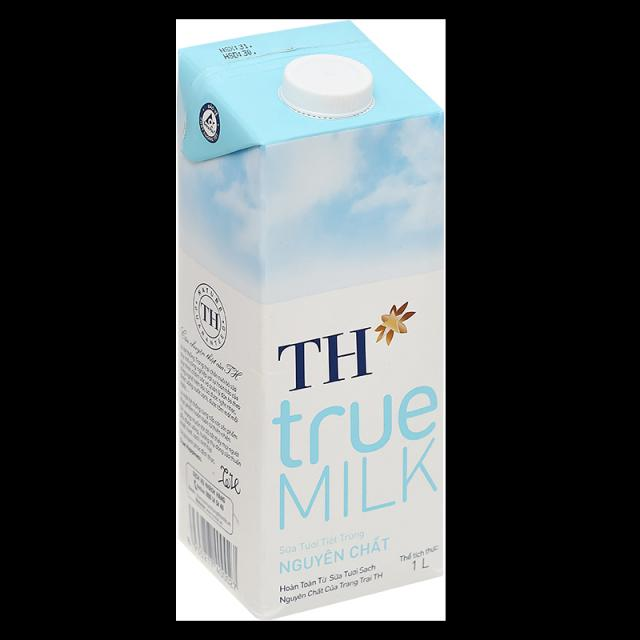non_white_jug: (164, 3, 470, 611)
